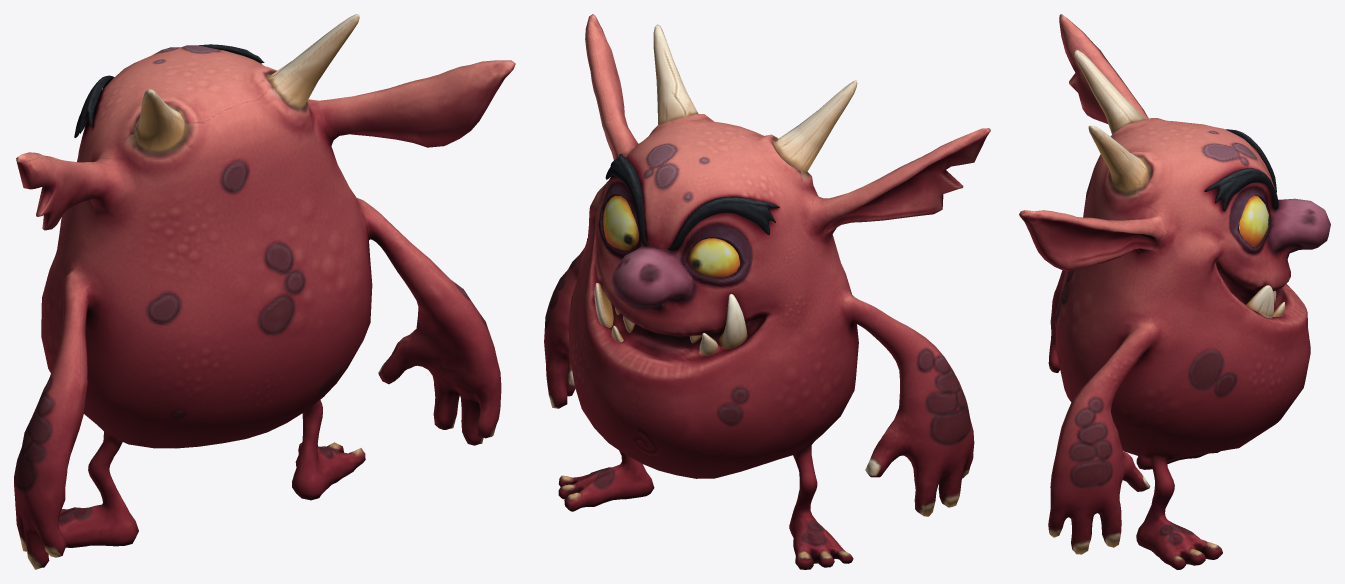
The model's file is potato_character-v1.glb.
3 renders of one model, left to right at view 1: azimuth 30°, elevation 25°; view 2: azimuth 150°, elevation 25°; view 3: azimuth 270°, elevation 25°, orthographic. The views are drawn at different scales.
Parts seen in each view (by area): view 1: Object_2; view 2: Object_2; view 3: Object_2.
Boxes of the visible parts, left/top/right/bottom form: Object_2: left=14, top=14, right=515, bottom=569; Object_2: left=544, top=14, right=990, bottom=569; Object_2: left=1019, top=14, right=1330, bottom=569.
Bounding box in the file's own units: 2.86 × 2.84 × 1.88.
Materials: 1 (1 with a texture image).
